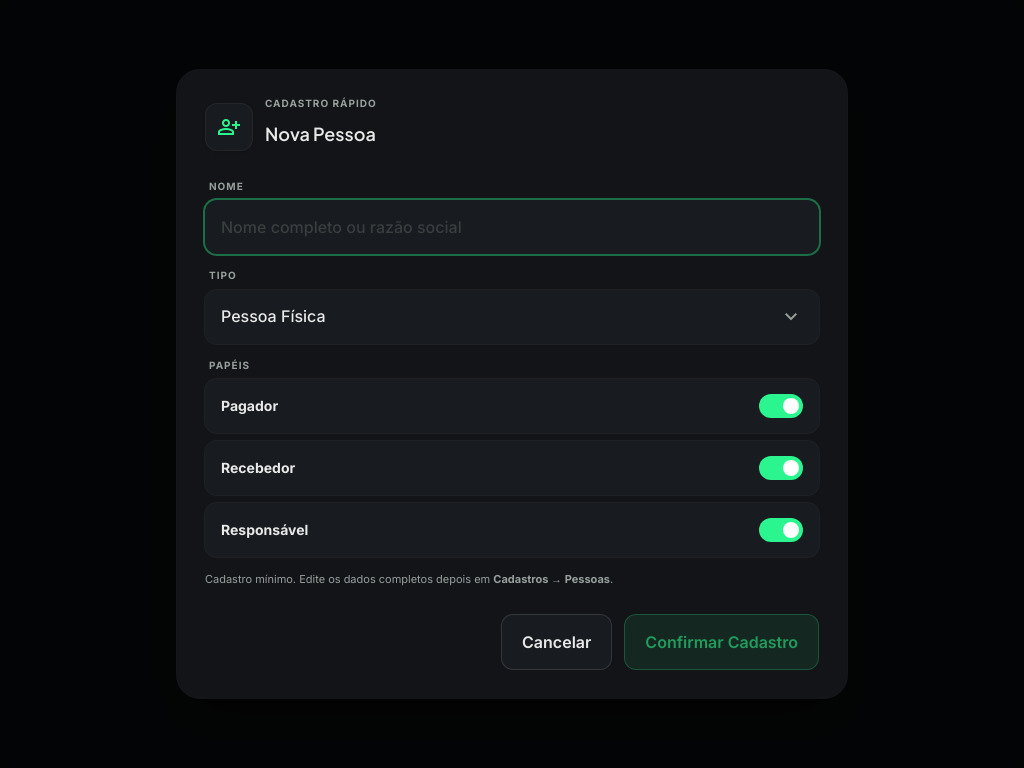
Test: quick add modals › shows the failure message when person creation fails
This screenshot has width=1024, height=768.
Type "Pessoa Teste" into the field with placeholder "Nome completo ou razão social" at (512, 227), box top-left (205, 200), bottom-right (819, 254)
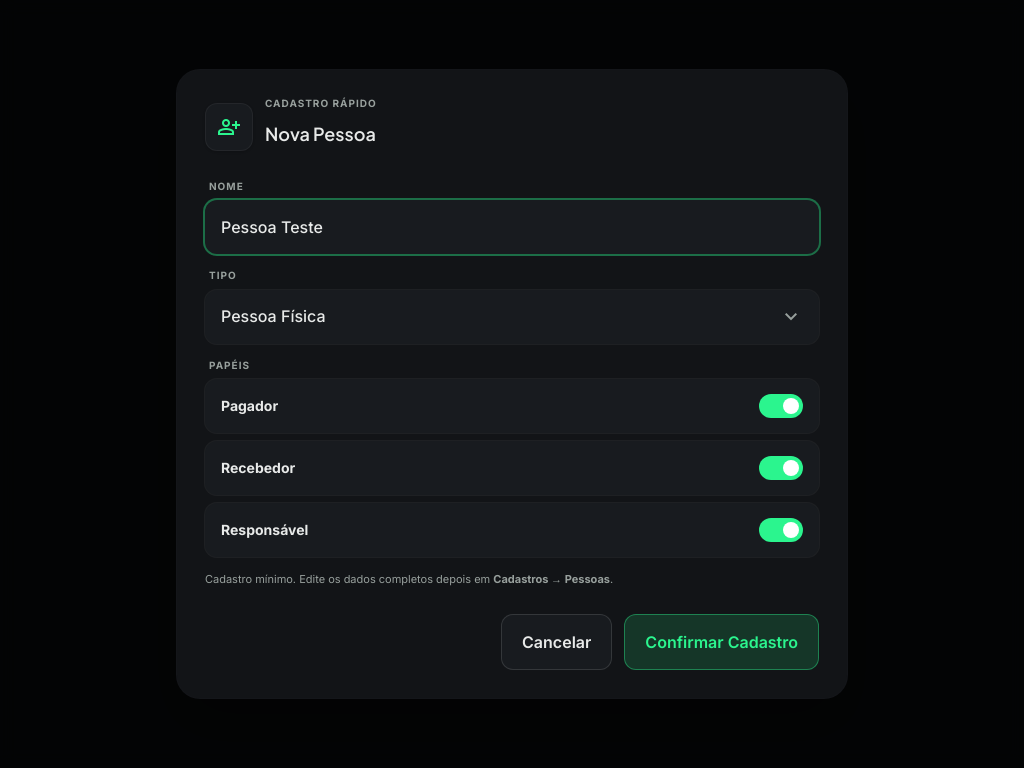
Click the button "Confirmar Cadastro" at (722, 642), box top-left (624, 614), bottom-right (819, 670)
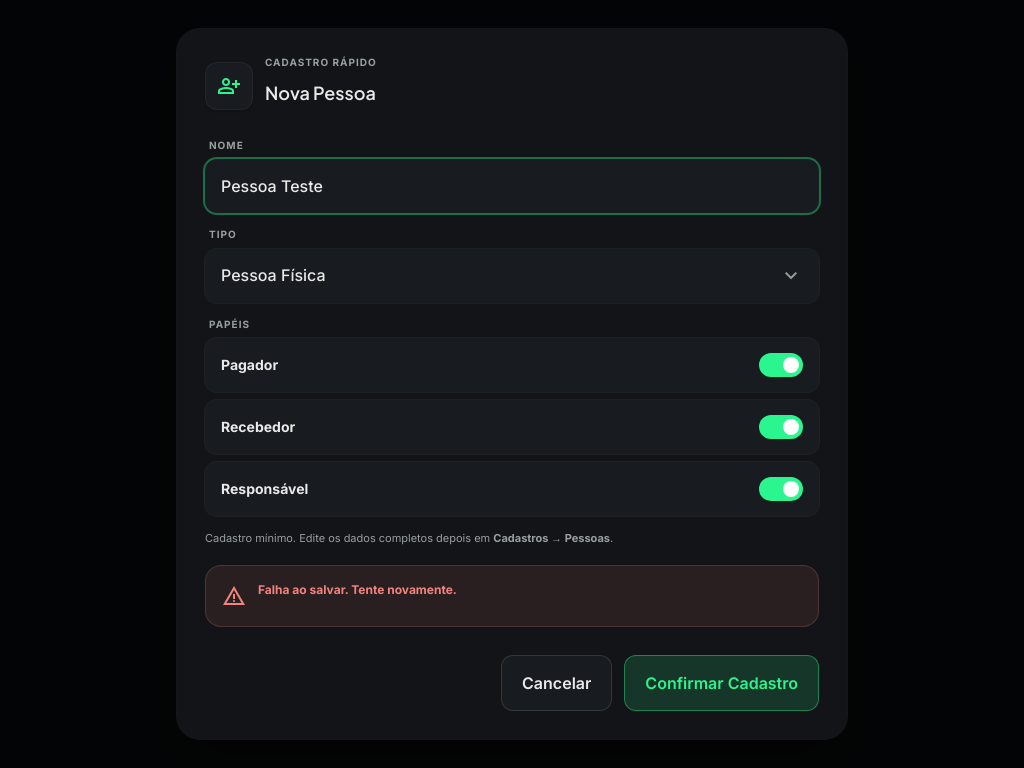
Check: the text "Falha ao salvar. Tente novamente." is shown, box top-left (258, 582), bottom-right (457, 598)
